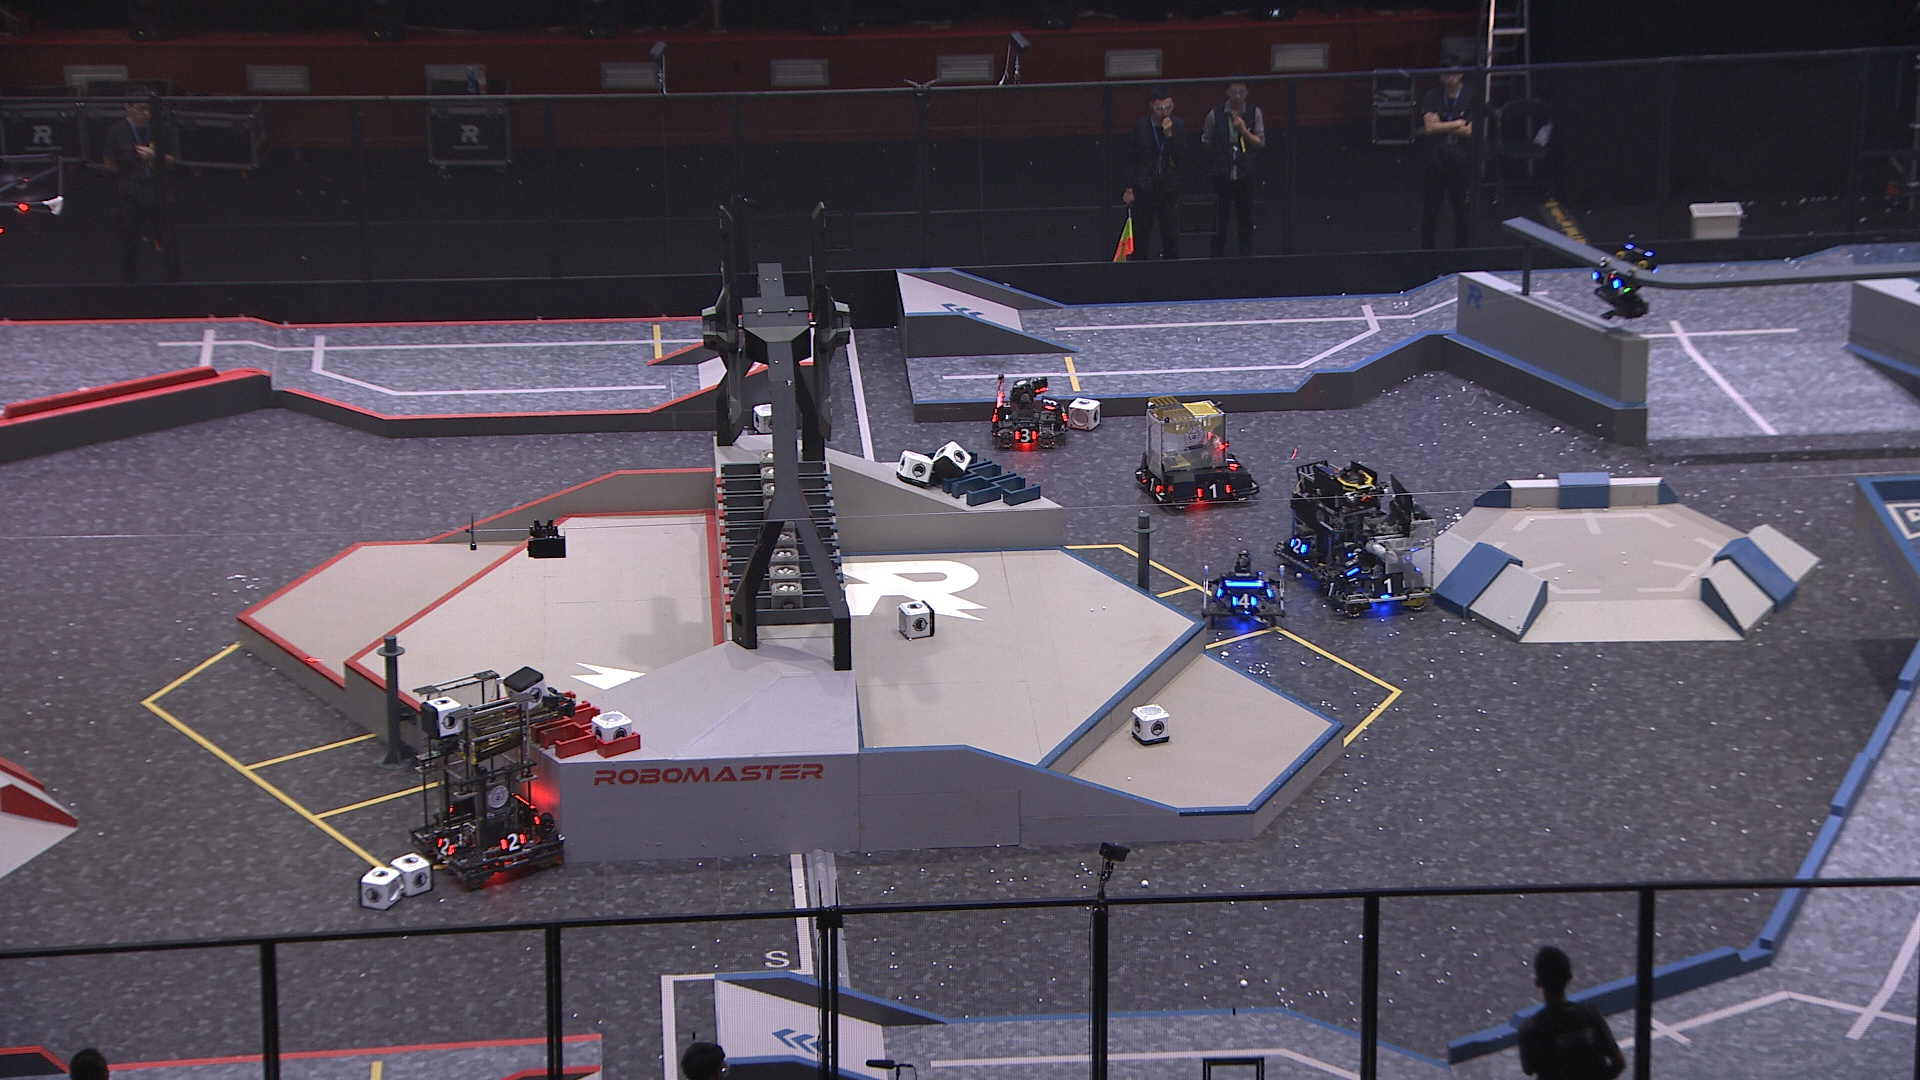armor: (1592, 270, 1622, 291), (1371, 576, 1406, 595), (500, 831, 527, 853), (1196, 484, 1232, 500), (433, 835, 456, 858), (1232, 593, 1258, 612), (1013, 427, 1039, 443), (1139, 473, 1160, 493), (1321, 579, 1338, 603), (1221, 451, 1238, 471), (1290, 538, 1307, 556), (1043, 396, 1058, 413), (1059, 407, 1069, 429)
car: (409, 674, 564, 887), (1311, 480, 1437, 617), (1131, 392, 1263, 514), (1273, 458, 1391, 584), (1197, 553, 1283, 632), (989, 373, 1073, 451)
watcher: (1588, 239, 1664, 323)
